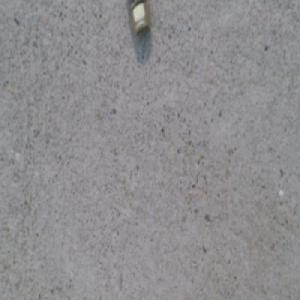BoltNutSet: (127, 1, 147, 38)
